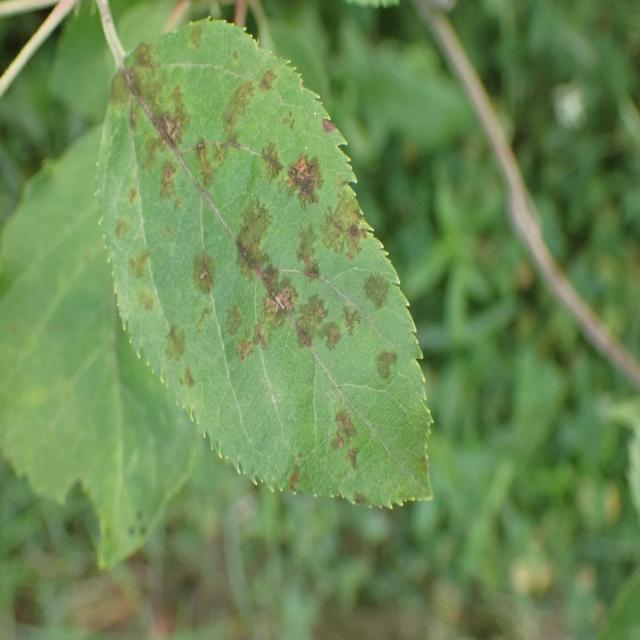scab: (78, 20, 456, 518)
